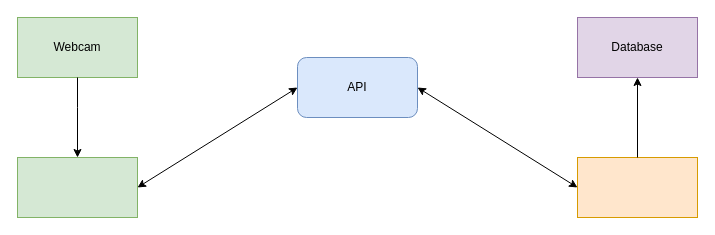
The diagram is 715 pixels wide and 235 high, and some of its shapes have lost their labels. The shapes that lost their labels are listed below. From the top down, each one's centre as x and y in pixels, then its label:
At [77,187]: "Raspberry Pi".
At [637,187]: "Website".
